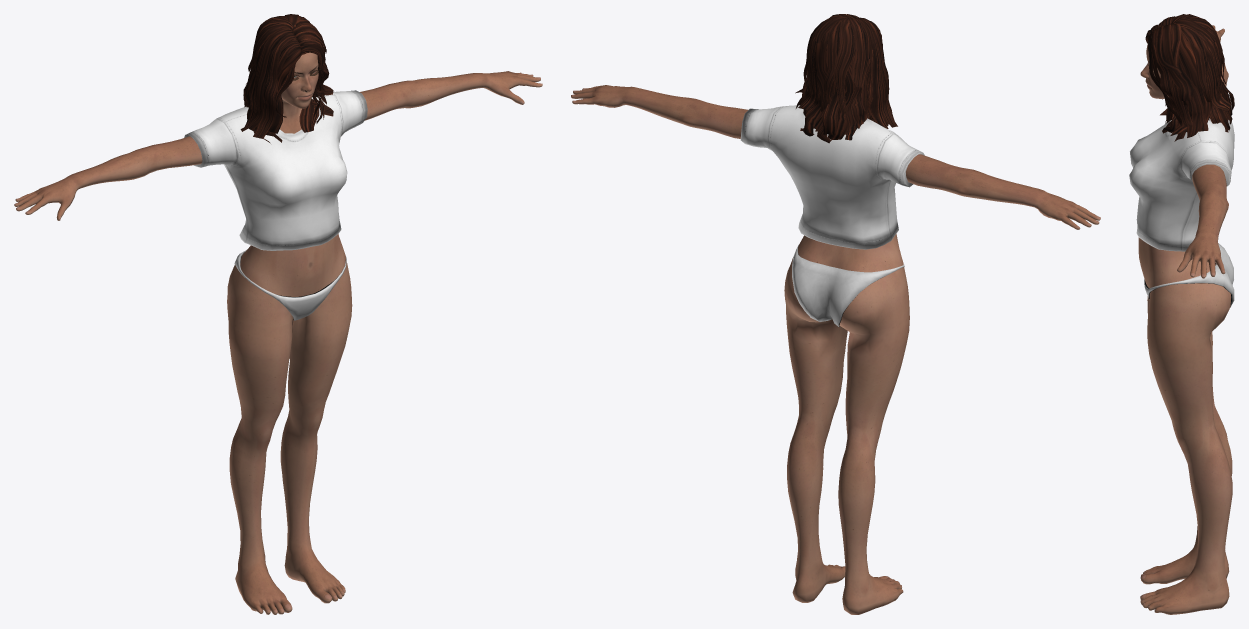
Rendered from alien.obj.
3 views of the same model, side by side, from view 1: azimuth 30°, elevation 25°; view 2: azimuth 150°, elevation 25°; view 3: azimuth 270°, elevation 25° (orthographic).
Visible parts, largest first — view 1: Body, Tops, Hair, Bottoms; view 2: Body, Tops, Hair, Bottoms; view 3: Body, Tops, Hair, Bottoms.
Boxes of the visible parts, box(x1,y1,x2,y2) form: Body: box(14, 52, 542, 614); Tops: box(184, 90, 367, 250); Hair: box(240, 14, 333, 143); Bottoms: box(234, 250, 346, 320); Body: box(571, 85, 1100, 614); Tops: box(740, 105, 924, 249); Hair: box(795, 14, 897, 143); Bottoms: box(792, 245, 904, 326); Body: box(1138, 25, 1232, 614); Tops: box(1129, 94, 1234, 251); Hair: box(1145, 14, 1234, 141); Bottoms: box(1144, 243, 1234, 307).
Bounding box in the file's own units: 170 × 178 × 29.57.
4 materials, 4 textured.
